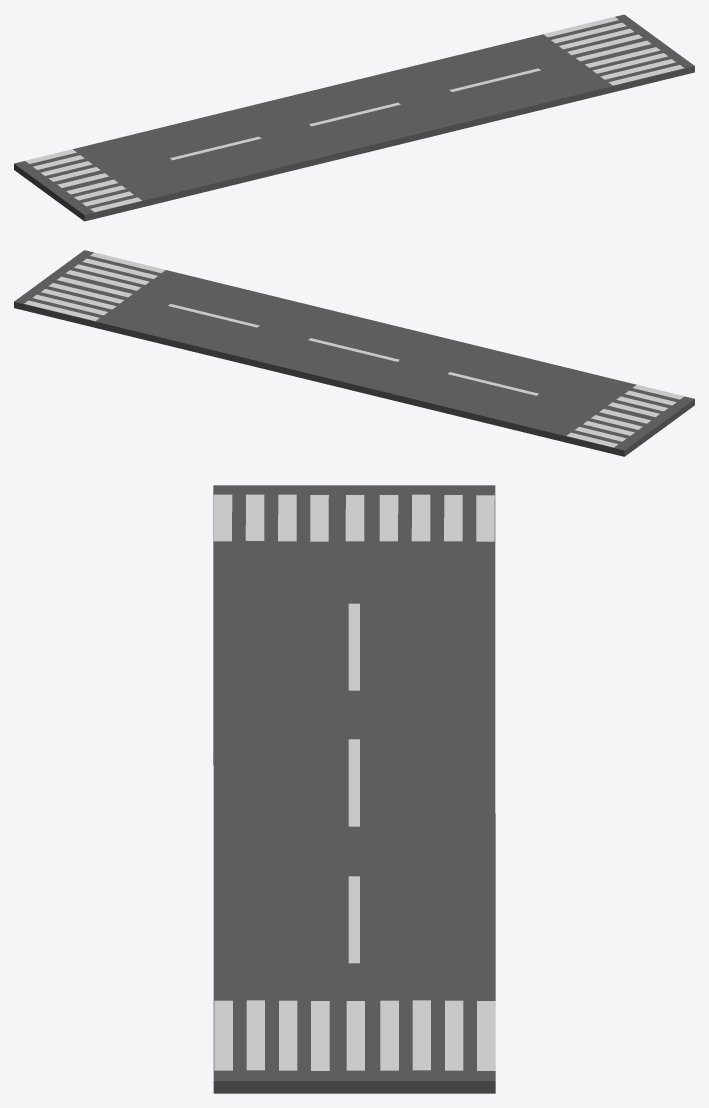
The model's file is road_1_1.dae.
3 views of the same model, one above another, from view 1: azimuth 30°, elevation 25°; view 2: azimuth 150°, elevation 25°; view 3: azimuth 270°, elevation 25° (orthographic). The views are drawn at different scales.
Visible parts, largest first — view 1: road_base_long, road_line_1; view 2: road_base_long, road_line_1; view 3: road_base_long, road_line_1.
Boxes of the visible parts, <box> form: road_base_long: <box>14,14,694,221</box>; road_line_1: <box>25,16,684,212</box>; road_base_long: <box>14,250,694,456</box>; road_line_1: <box>24,252,684,447</box>; road_base_long: <box>213,485,495,1093</box>; road_line_1: <box>213,494,495,1070</box>.
Size of the model in its own units: 50 by 10.02 by 0.5183.
Materials: 2 (2 with a texture image).
